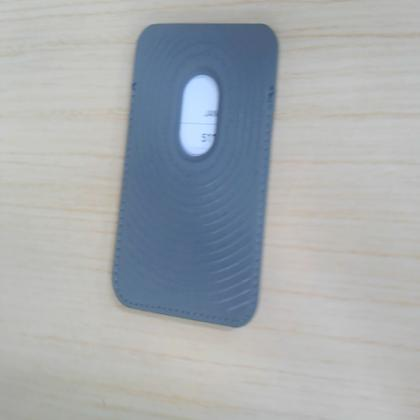pics: (112, 24, 278, 326)
